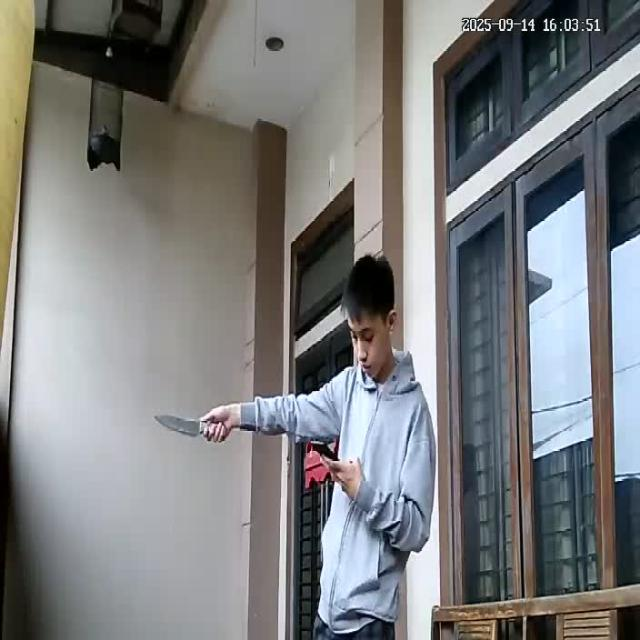senjata_tajam: (153, 412, 203, 438)
